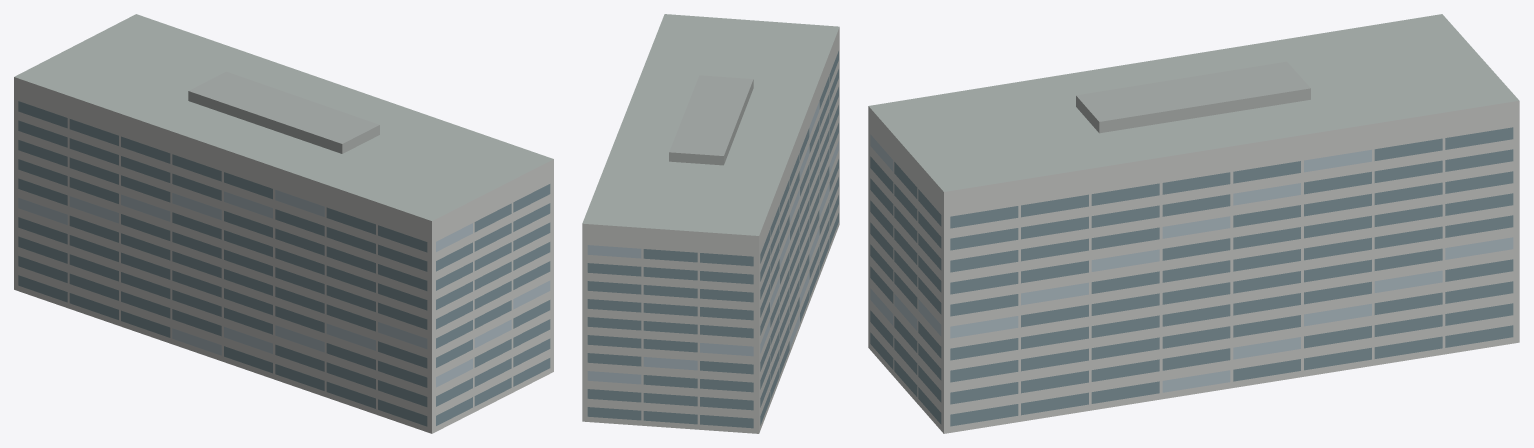
File: apt-a13572601.glb
3 renders of one model, left to right at view 1: azimuth 30°, elevation 25°; view 2: azimuth 150°, elevation 25°; view 3: azimuth 270°, elevation 25°, orthographic. The views are drawn at different scales.
Visible parts, largest first — view 1: apt-a13572601; view 2: apt-a13572601; view 3: apt-a13572601.
Part boxes in pixels (x1=…): apt-a13572601: x1=14, y1=14, x2=553, y2=433; apt-a13572601: x1=582, y1=14, x2=839, y2=433; apt-a13572601: x1=868, y1=14, x2=1519, y2=433.
Bounding box in the file's own units: 51.23 × 34 × 79.18.
